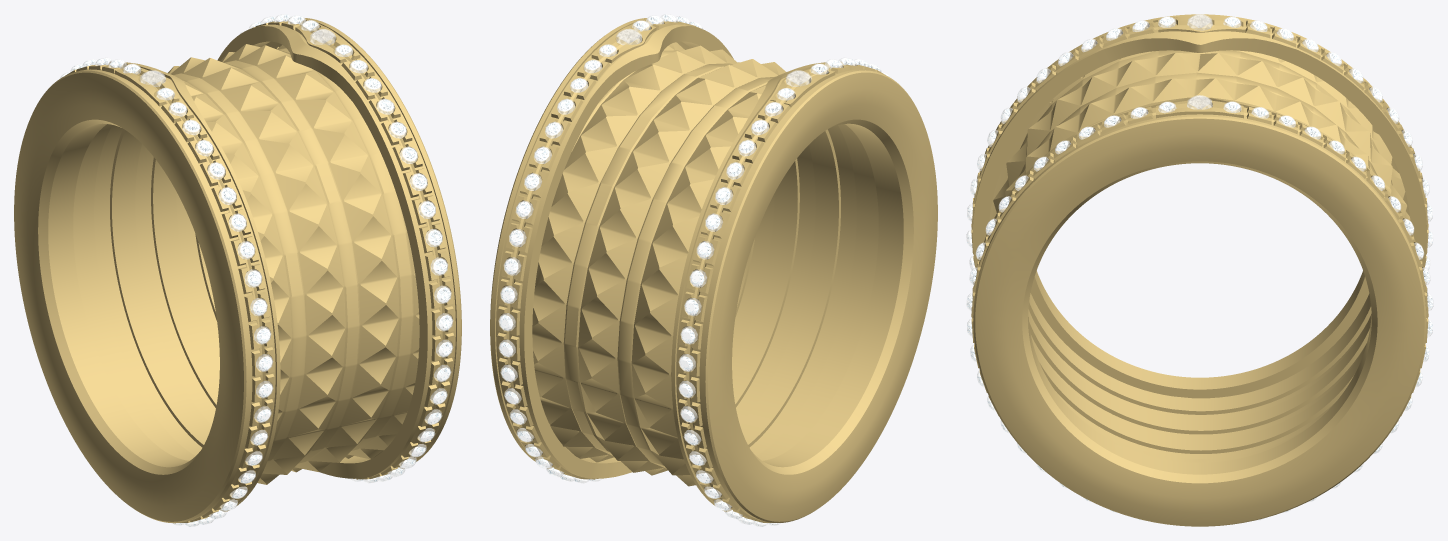
Rendered from Bulgari_Ring.glb.
3 renders of one model, left to right at view 1: azimuth 30°, elevation 25°; view 2: azimuth 150°, elevation 25°; view 3: azimuth 270°, elevation 25°, orthographic. The views are drawn at different scales.
Visible parts, largest first — view 1: Middle Part, Front.001, Front, Upper Gem Holder, Upper Gem Holder.003; view 2: Middle Part, Front.001, Front, Upper Gem Holder, Upper Gem Holder.003; view 3: Front, Middle Part, Front.001, Upper Gem Holder.003, Upper Gem Holder.
Boxes of the visible parts, <box> form: Middle Part: <box>73,44,419,484</box>; Front.001: <box>14,62,280,523</box>; Front: <box>217,18,461,478</box>; Upper Gem Holder: <box>295,23,360,63</box>; Upper Gem Holder.003: <box>114,67,179,106</box>; Middle Part: <box>532,42,878,486</box>; Front.001: <box>671,62,937,522</box>; Front: <box>490,18,733,478</box>; Upper Gem Holder: <box>591,23,656,63</box>; Upper Gem Holder.003: <box>770,68,835,107</box>; Front: <box>973,97,1426,526</box>; Middle Part: <box>993,50,1410,462</box>; Front.001: <box>972,14,1426,398</box>; Upper Gem Holder.003: <box>1158,16,1245,32</box>; Upper Gem Holder: <box>1156,100,1243,118</box>.
Size of the model in its own units: 1.19 by 2.23 by 2.22.
Materials: 5 (1 with a texture image).
